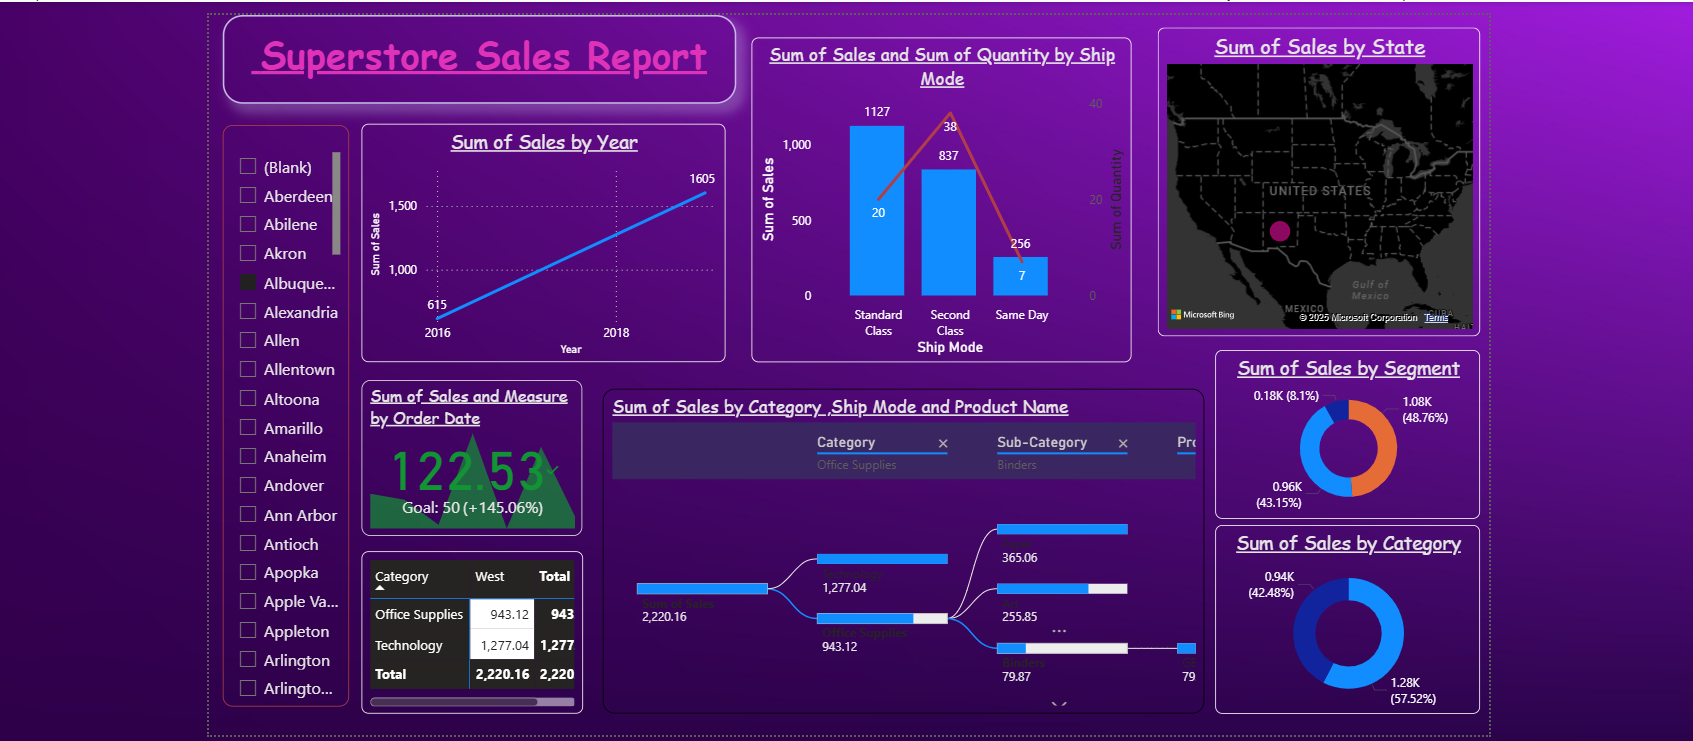

This screenshot's page, from the dashboard's own definition file:
{"tool":"powerbi","page":{"name":"Sales","canvas":[1280,720],"ordinal":1},"visuals":[{"type":"textbox","box":[13.8,0,513.8,88.8],"z":0},{"type":"map","fields":{"Size":["Sum(Orders.Sales)"],"Category":["Orders.State"]},"box":[948.8,12.5,322.5,308.8],"z":1000},{"type":"donutChart","fields":{"Category":["Orders.Category"],"Y":["Sum(Orders.Sales)"]},"box":[1006.2,510,265,188.8],"z":2000},{"type":"donutChart","fields":{"Category":["Orders.Segment"],"Y":["Sum(Orders.Sales)"]},"box":[1006.2,335,265,168.8],"z":3000},{"type":"lineStackedColumnComboChart","fields":{"Category":["Orders.Ship Mode"],"Y":["Sum(Orders.Sales)"],"Y2":["Sum(Orders.Quantity)"]},"box":[542.5,22.5,380,325],"z":4000},{"type":"lineChart","fields":{"Category":["Orders.Order Date.Variation.Date Hierarchy.Year","Orders.Order Date.Variation.Date Hierarchy.Quarter","Orders.Order Date.Variation.Date Hierarchy.Month","Orders.Order Date.Variation.Date Hierarchy.Day"],"Y":["Sum(Orders.Sales)"]},"box":[152.5,108.8,363.8,238.8],"z":5000},{"type":"slicer","fields":{"Values":["Orders.City"]},"box":[13.8,110,126.2,581.2],"z":6000},{"type":"pivotTable","fields":{"Columns":["Orders.Region"],"Values":["Sum(Orders.Sales)"],"Rows":["Orders.Category"]},"box":[152.5,536.2,221.2,162.5],"z":7000},{"type":"kpi","fields":{"Indicator":["Sum(Orders.Sales)"],"TrendLine":["Orders.Order Date"],"Goal":["Orders.Measure"]},"box":[152,365.6,220.8,155.6],"z":8000},{"type":"decompositionTreeVisual","title":"Sum of Sales by Category ,Ship Mode and Product Name","fields":{"ExplainBy":["Orders.Category","Orders.Sub-Category","Orders.Product Name"],"Analyze":["Sum(Orders.Sales)"]},"box":[393.8,373.8,601.2,325],"z":9000}]}

Visuals, with their boxes on the page's 1280x720 design canvas (x1, y1, x2, y2). These are canvas units, not pixel positions in the 1693x741 screenshot, which may show the page scaled, cropped or inside an application window:
textbox: locate(14, 0, 528, 89)
map - Sum(Orders.Sales) x Orders.State: locate(949, 12, 1271, 321)
donutChart - Orders.Category x Sum(Orders.Sales): locate(1006, 510, 1271, 699)
donutChart - Orders.Segment x Sum(Orders.Sales): locate(1006, 335, 1271, 504)
lineStackedColumnComboChart - Orders.Ship Mode x Sum(Orders.Sales): locate(542, 22, 922, 348)
lineChart - Orders.Order Date.Variation.Date Hierarchy.Year x Orders.Order Date.Variation.Date Hierarchy.Quarter: locate(152, 109, 516, 348)
slicer - Orders.City: locate(14, 110, 140, 691)
pivotTable - Orders.Region x Sum(Orders.Sales): locate(152, 536, 374, 699)
kpi - Sum(Orders.Sales) x Orders.Order Date: locate(152, 366, 373, 521)
"Sum of Sales by Category ,Ship Mode and Product Name" decompositionTreeVisual: locate(394, 374, 995, 699)
